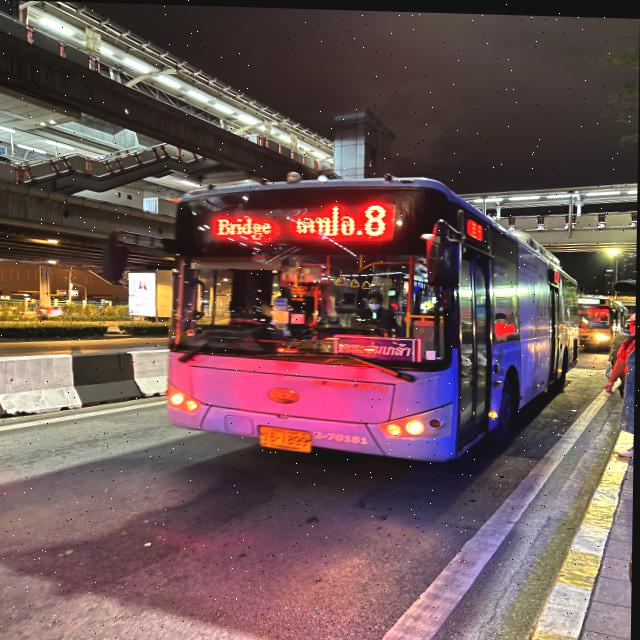BMTA-bus: (163, 170, 580, 466)
Bus-Line-Number: (323, 196, 393, 240)
Destination-Sign-Normal: (336, 331, 422, 359)
